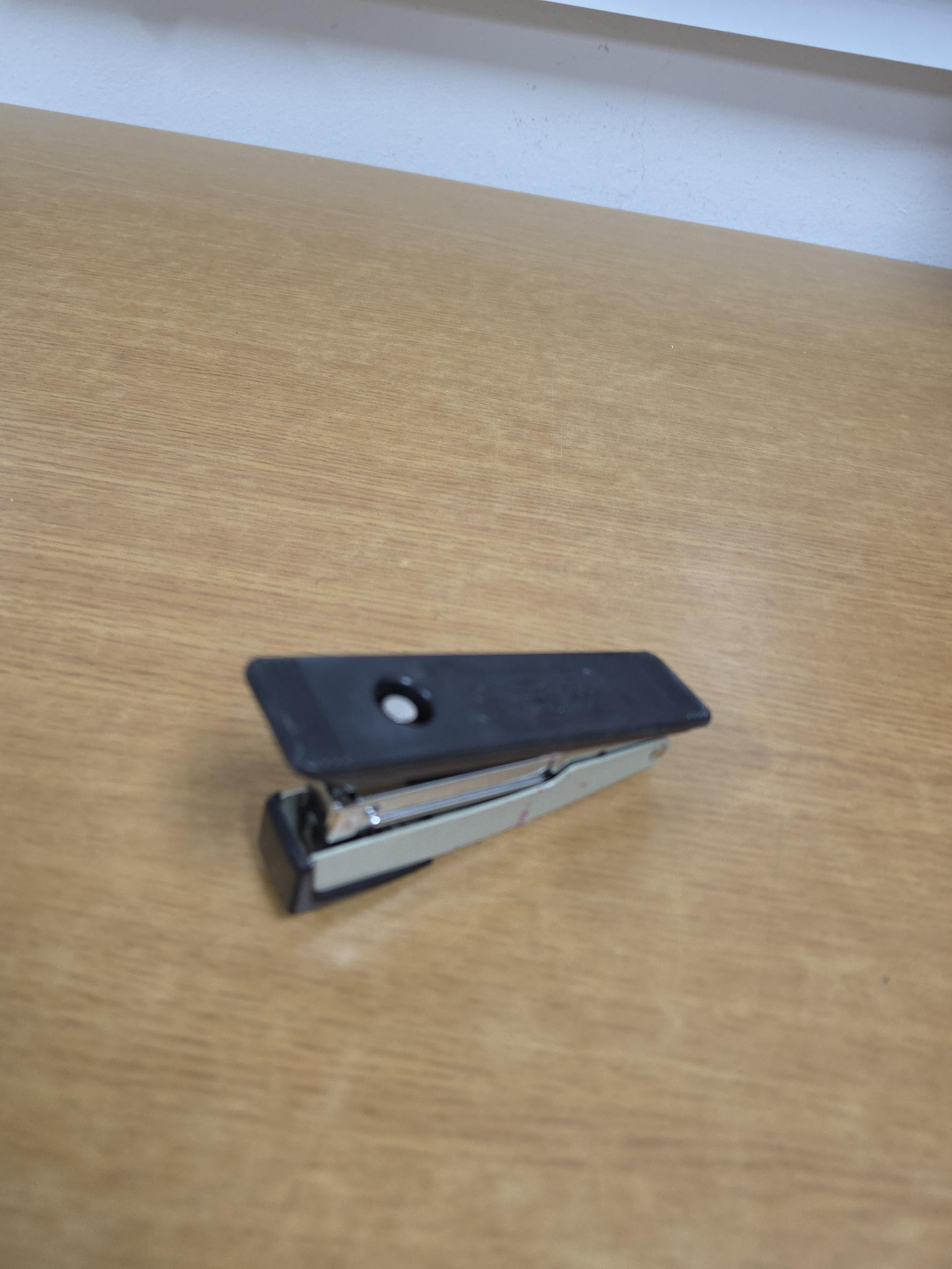stapler: (244, 649, 711, 916)
